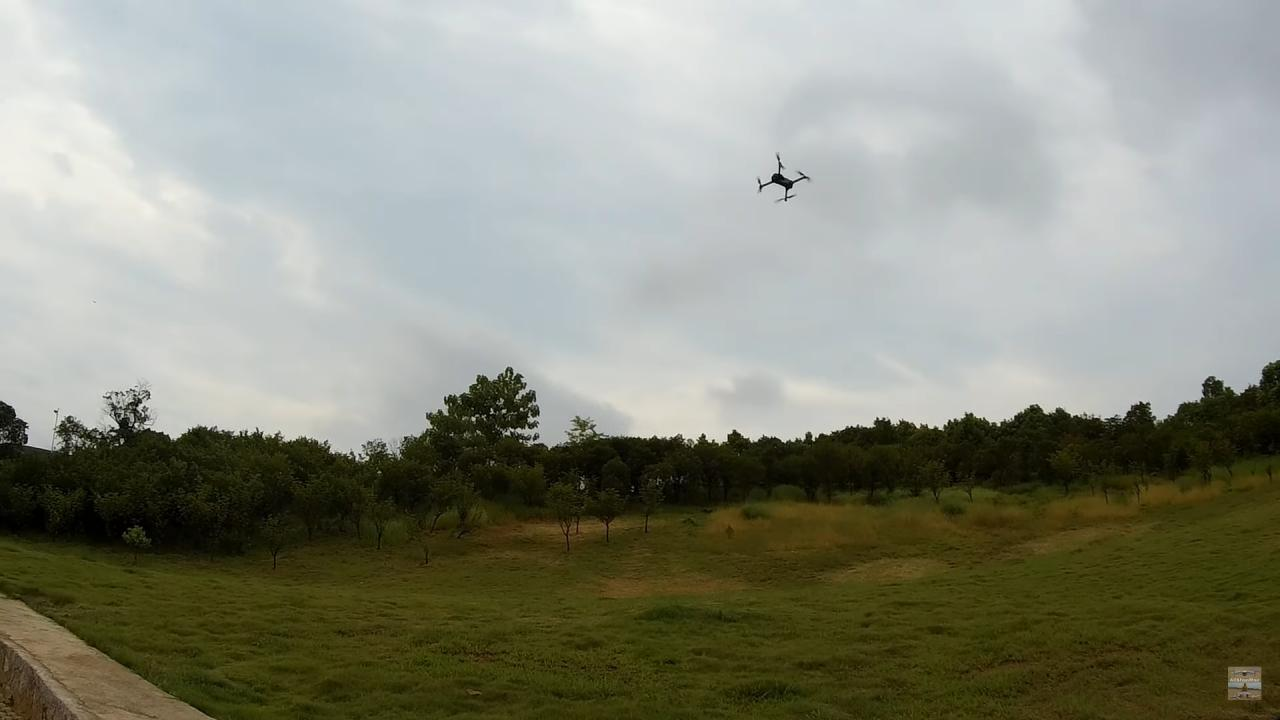Drone: (748, 144, 821, 214)
